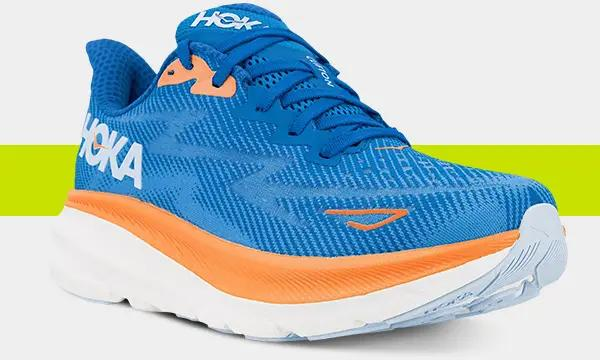hoka logo: (70, 97, 168, 205)
